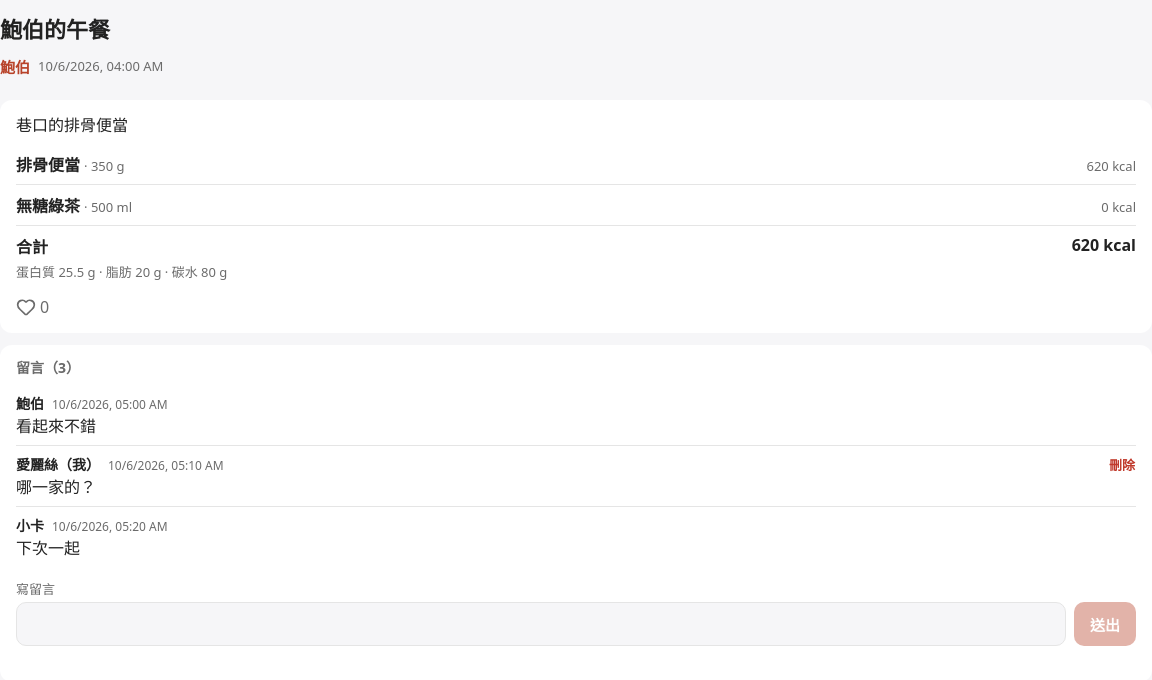
Scenario: 餐點頁：刪留言 › 失敗：「刪除失敗，請再試一次」，那一則與確認框都還在；再按一次成功
This screenshot has width=1152, height=680.
Click the button with aria-label "刪除 愛麗絲 的留言" at (1122, 464), box [1100,442,1144,486]
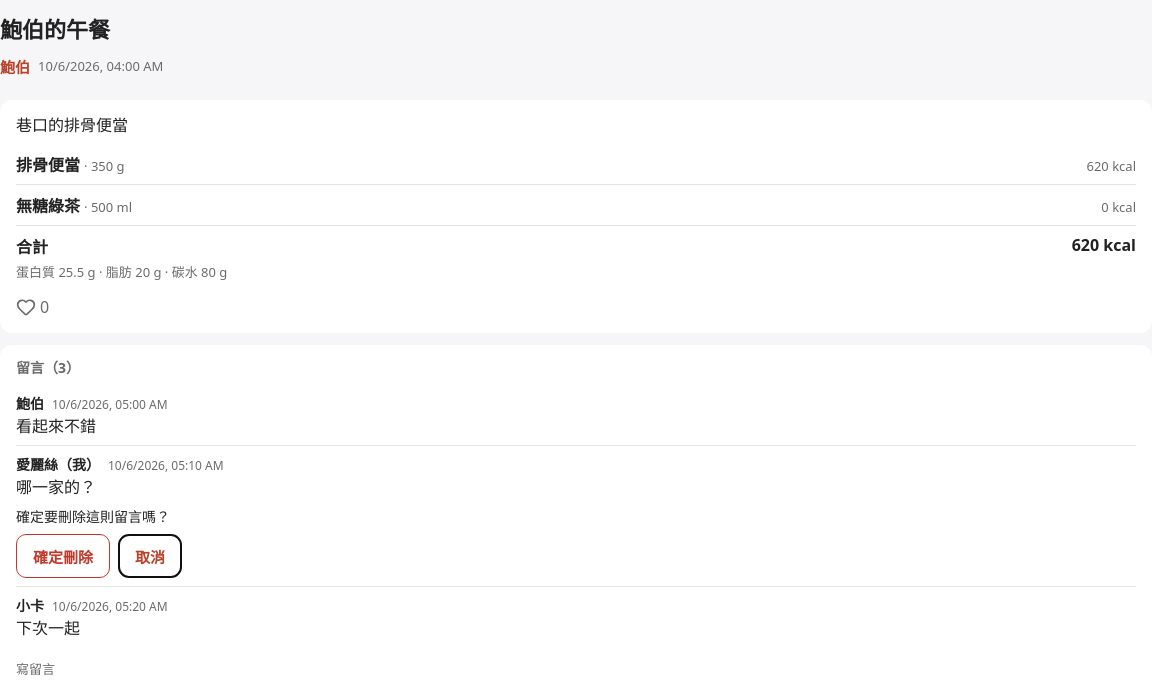
Click the button "確定刪除" at (63, 556), box [16,534,110,578]
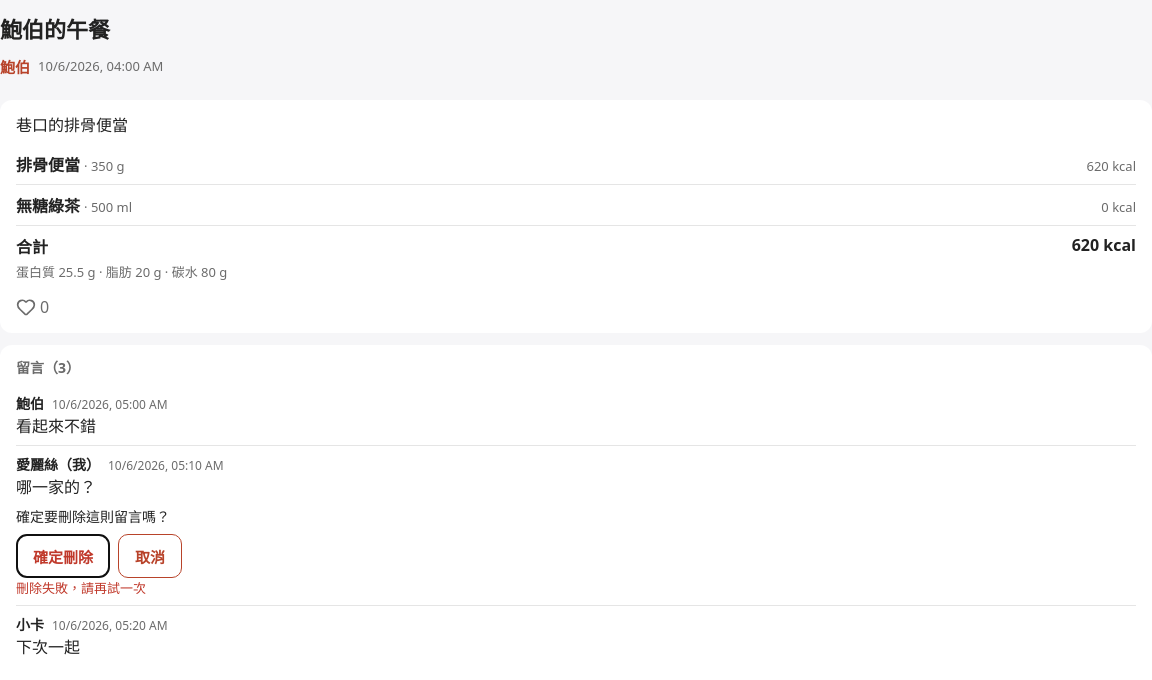
Expected: the text "哪一家的？" is shown, [16,476,96,498]
Expected: the dialog named "確認刪除留言" is shown, [16,507,182,578]
Expected: the message reads "刪除失敗，請再試一次", [16,579,146,597]
Click the button "確定刪除" at (63, 556), box [16,534,110,578]
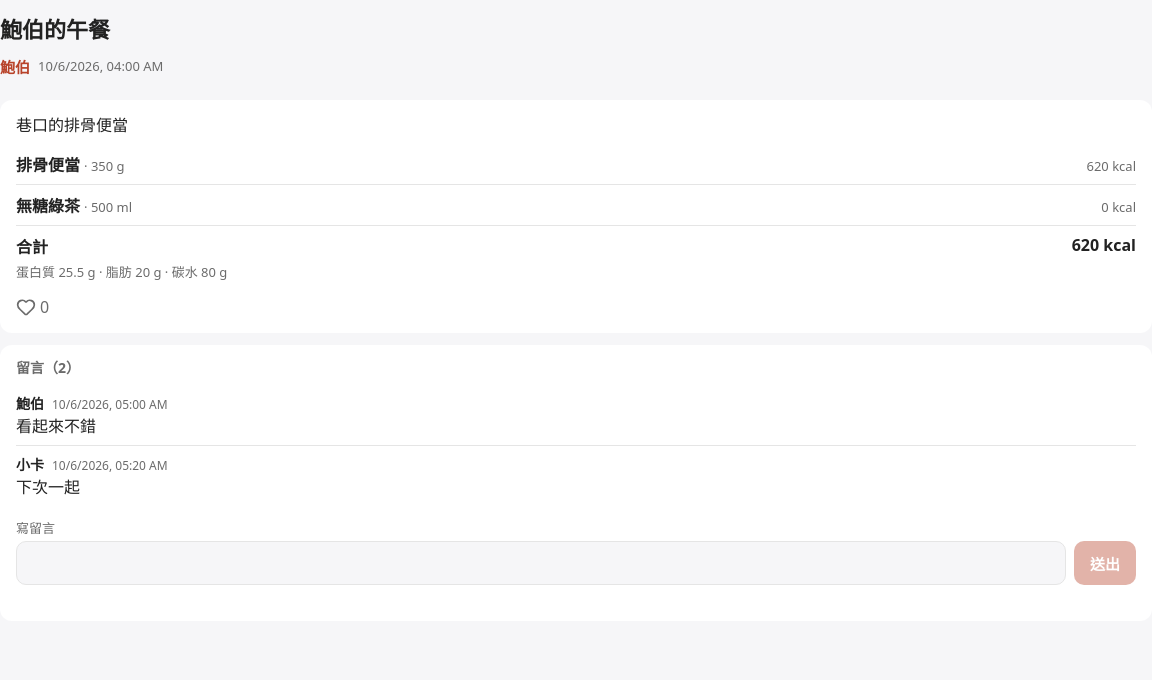
Expected: the text "哪一家的？" is gone
Expected: the message "刪除失敗，請再試一次" is gone
